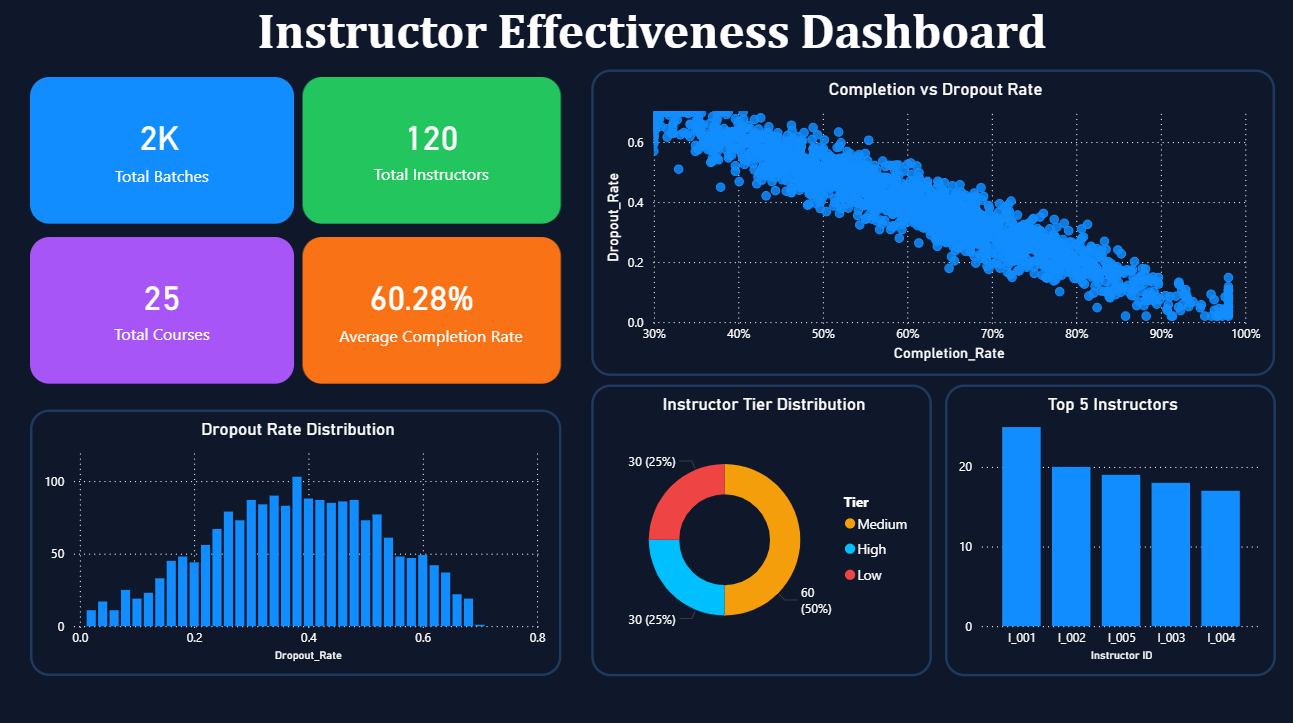

This screenshot's page, from the dashboard's own definition file:
{"tool":"powerbi","page":{"name":"Page 1","canvas":[1280,720],"ordinal":0},"visuals":[{"type":"advanceCardE03760C5AB684758B56AA29F9E6C257B","fields":{"mainMeasure":["CountNonNull(instructor_effectiveness_datase.batch_id)"]},"box":[34.5,78.6,259.5,144],"z":0},{"type":"advanceCardE03760C5AB684758B56AA29F9E6C257B","fields":{"mainMeasure":["Count(instructor_effectiveness_datase.instructor_id)"]},"box":[302.4,78.6,253.6,144],"z":1000},{"type":"advanceCardE03760C5AB684758B56AA29F9E6C257B","fields":{"mainMeasure":["Count(instructor_effectiveness_datase.course_id)"]},"box":[34.5,235.7,259.5,144],"z":2000},{"type":"advanceCardE03760C5AB684758B56AA29F9E6C257B","fields":{"mainMeasure":["Avg(instructor_effectiveness_datase.completion_rate)"]},"box":[302.4,235.7,253.6,144],"z":3000},{"type":"scatterChart","title":"Completion vs Dropout Rate","fields":{"Y":["instructor_effectiveness_datase.dropout_rate"],"X":["instructor_effectiveness_datase.completion_rate"]},"box":[585.7,71.4,671.4,301.2],"z":4000},{"type":"donutChart","title":" Instructor Tier Distribution","fields":{"Category":["instructor.tier"],"Y":["CountNonNull(instructor.tier)"]},"box":[585.2,380.2,334.6,286.4],"z":5000},{"type":"clusteredColumnChart","title":"Dropout Rate Distribution","fields":{"Category":["instructor_effectiveness_datase.dropout_rate (bins)"],"Y":["Count(instructor_effectiveness_datase.dropout_rate)"]},"box":[34.5,404.8,521.4,261.9],"z":6000},{"type":"clusteredColumnChart","title":"Top 5 Instructors","fields":{"Category":["instructor_effectiveness_datase.instructor_id"],"Y":["CountNonNull(instructor_effectiveness_datase.instructor_id)"]},"box":[932.1,380.2,324.7,286.4],"z":7000},{"type":"textbox","box":[9.5,0,1270.2,66.7],"z":7001}]}

Visuals, with their boxes in screenshot pixels (x1, y1, x2, y2), scaled from the page's 1280x720 canvas onto the 1293x723 screenshot:
advanceCardE03760C5AB684758B56AA29F9E6C257B - CountNonNull(instructor_effectiveness_datase.batch_id): {"x1": 35, "y1": 79, "x2": 297, "y2": 224}
advanceCardE03760C5AB684758B56AA29F9E6C257B - Count(instructor_effectiveness_datase.instructor_id): {"x1": 305, "y1": 79, "x2": 562, "y2": 224}
advanceCardE03760C5AB684758B56AA29F9E6C257B - Count(instructor_effectiveness_datase.course_id): {"x1": 35, "y1": 237, "x2": 297, "y2": 381}
advanceCardE03760C5AB684758B56AA29F9E6C257B - Avg(instructor_effectiveness_datase.completion_rate): {"x1": 305, "y1": 237, "x2": 562, "y2": 381}
"Completion vs Dropout Rate" scatterChart: {"x1": 592, "y1": 72, "x2": 1270, "y2": 374}
" Instructor Tier Distribution" donutChart: {"x1": 591, "y1": 382, "x2": 929, "y2": 669}
"Dropout Rate Distribution" clusteredColumnChart: {"x1": 35, "y1": 406, "x2": 562, "y2": 669}
"Top 5 Instructors" clusteredColumnChart: {"x1": 942, "y1": 382, "x2": 1270, "y2": 669}
textbox: {"x1": 10, "y1": 0, "x2": 1292, "y2": 67}
